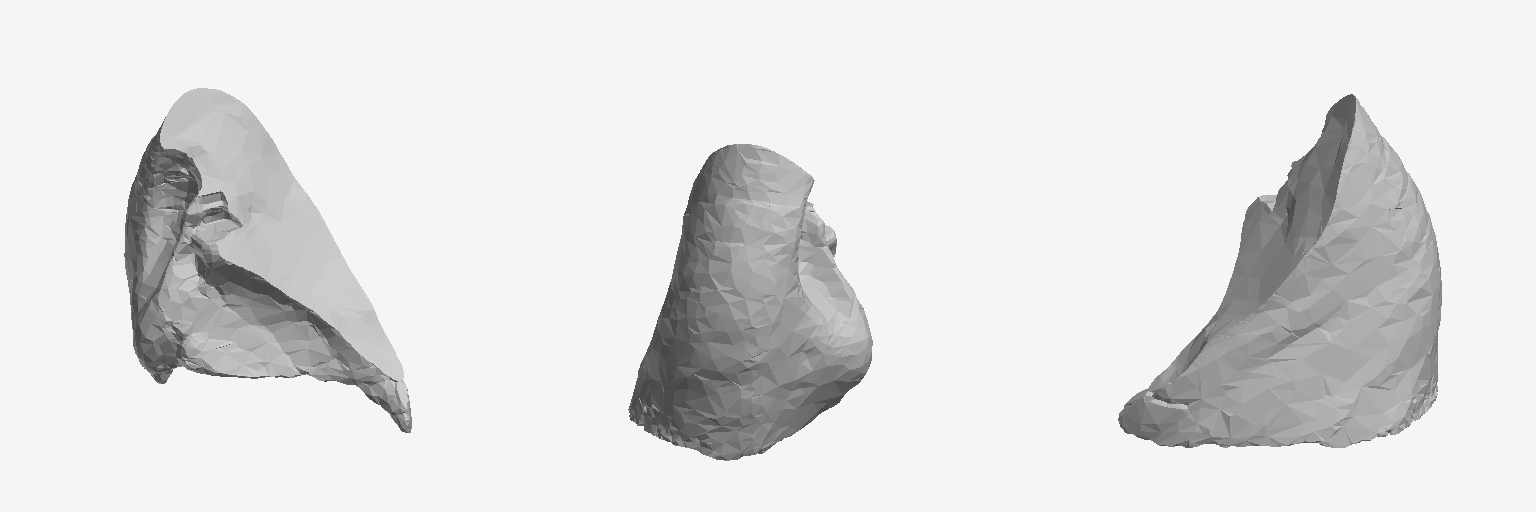
3 views of the same model, side by side, from view 1: azimuth 30°, elevation 25°; view 2: azimuth 150°, elevation 25°; view 3: azimuth 270°, elevation 25° (orthographic).
Visible parts, largest first — view 1: Polygonal_Model_14_Triangles_0; view 2: Polygonal_Model_14_Triangles_0; view 3: Polygonal_Model_14_Triangles_0.
Boxes of the visible parts, x1,y1,x2,y2 form: Polygonal_Model_14_Triangles_0: [124, 88, 411, 432]; Polygonal_Model_14_Triangles_0: [628, 144, 872, 460]; Polygonal_Model_14_Triangles_0: [1118, 94, 1441, 447].
Bounding box in the file's own units: 5.51 × 6.92 × 7.